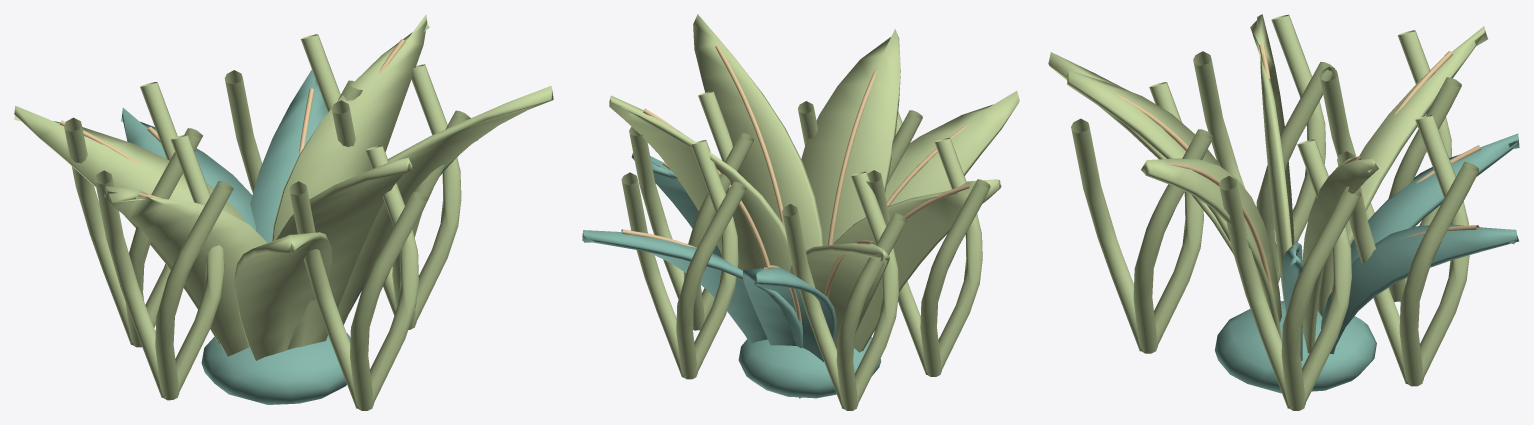
File: bio_mist_leaf_09_far.glb
The picture shows the model from 3 angles, left to right: view 1: azimuth 30°, elevation 25°; view 2: azimuth 150°, elevation 25°; view 3: azimuth 270°, elevation 25°; orthographic projection. The views are drawn at different scales.
Parts seen in each view (by area): view 1: Spiral filament.012, Spiral filament.006, Cupped condensate leaf.008, Cupped condensate leaf.004, Cupped condensate leaf.007, Cupped condensate leaf.002, Spiral filament.003, Root rosette, Cupped condensate leaf.005, Spiral filament, Cupped condensate leaf.001, Cupped condensate leaf.003 (+2 smaller); view 2: Cupped condensate leaf.002, Spiral filament.003, Spiral filament.009, Cupped condensate leaf.005, Spiral filament.012, Cupped condensate leaf.008, Cupped condensate leaf.004, Cupped condensate leaf.007, Spiral filament, Cupped condensate leaf.003, Root rosette, Cupped condensate leaf.006 (+7 smaller); view 3: Spiral filament, Spiral filament.006, Spiral filament.009, Spiral filament.012, Root rosette, Cupped condensate leaf.003, Spiral filament.003, Cupped condensate leaf.001, Cupped condensate leaf.005, Cupped condensate leaf.004, Cupped condensate leaf.002, Cupped condensate leaf.006 (+4 smaller).
Part boxes in pixels (x1,y1,x2,y2): Spiral filament.012: (94, 134, 233, 400); Spiral filament.006: (289, 145, 428, 410); Cupped condensate leaf.008: (272, 14, 429, 241); Cupped condensate leaf.004: (104, 186, 267, 356); Cupped condensate leaf.007: (234, 232, 331, 360); Cupped condensate leaf.002: (276, 157, 412, 349); Spiral filament.003: (64, 82, 203, 347); Root rosette: (201, 333, 350, 404); Cupped condensate leaf.005: (337, 86, 553, 324); Spiral filament: (331, 64, 470, 329); Cupped condensate leaf.001: (14, 105, 245, 343); Cupped condensate leaf.003: (250, 69, 327, 242); Cupped condensate leaf.002: (801, 29, 900, 245); Spiral filament.003: (782, 171, 906, 410); Spiral filament.009: (621, 140, 746, 379); Cupped condensate leaf.005: (693, 14, 823, 250); Spiral filament.012: (866, 137, 990, 376); Cupped condensate leaf.008: (609, 95, 791, 272); Cupped condensate leaf.004: (833, 179, 1001, 352); Cupped condensate leaf.007: (885, 91, 1019, 205); Spiral filament: (629, 91, 753, 330); Cupped condensate leaf.003: (582, 230, 803, 348); Root rosette: (738, 337, 881, 398); Cupped condensate leaf.006: (743, 267, 836, 398); Spiral filament: (1219, 139, 1360, 410); Spiral filament.006: (1071, 82, 1212, 353); Spiral filament.009: (1337, 114, 1478, 386); Spiral filament.012: (1193, 14, 1335, 283); Root rosette: (1215, 301, 1376, 393); Cupped condensate leaf.003: (1321, 224, 1519, 354); Spiral filament.003: (1319, 30, 1461, 301); Cupped condensate leaf.001: (1318, 26, 1487, 317); Cupped condensate leaf.005: (1141, 158, 1281, 340); Cupped condensate leaf.004: (1250, 14, 1294, 304); Cupped condensate leaf.002: (1067, 70, 1230, 241); Cupped condensate leaf.006: (1350, 133, 1519, 264).
Bounding box in the file's own units: 1.72 × 1.3 × 1.74.
